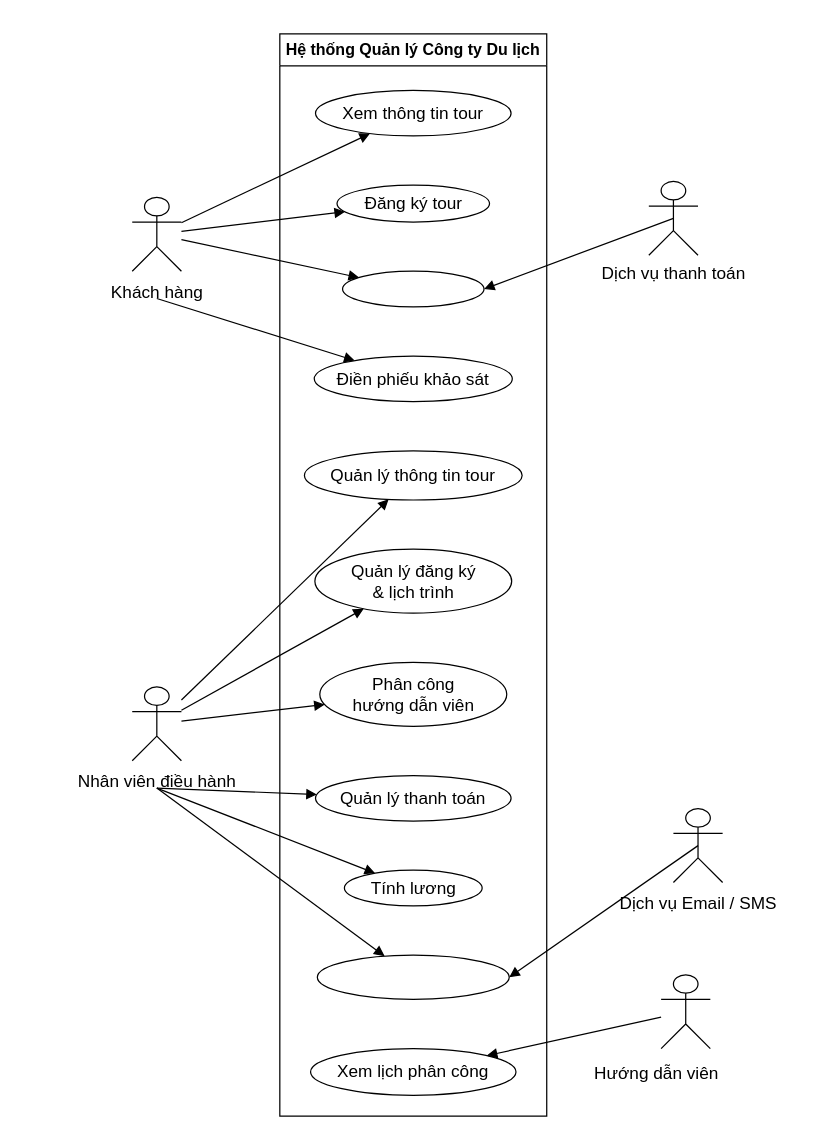
This 818x1138 diagram has some shape labels left out. The centre of each missing label's shape, as x and y in pixels:
"Gửi phiếu khảo sát" goes at point (412, 976).
"Thanh toán" goes at point (412, 288).
